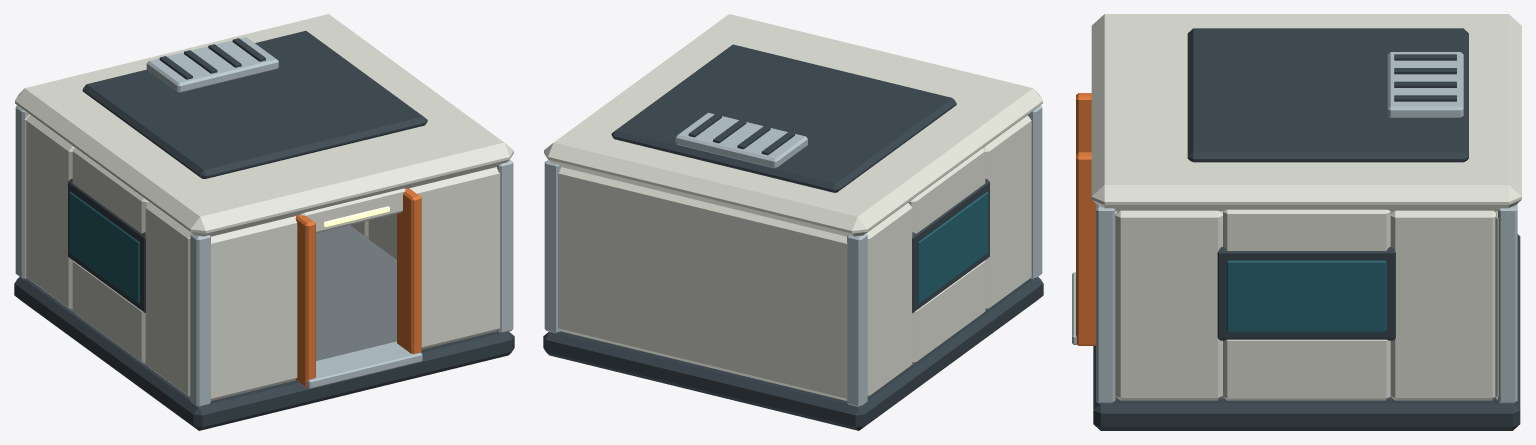
The model's file is habitat.glb.
3 renders of one model, left to right at view 1: azimuth 30°, elevation 25°; view 2: azimuth 150°, elevation 25°; view 3: azimuth 270°, elevation 25°, orthographic. The views are drawn at different scales.
Visible parts, largest first — view 1: Roof.001, habitat_ivory.001, habitat_dark.001, habitat_metal.001, habitat_floor.001, habitat_orange.001, habitat_glass.001; view 2: habitat_ivory.001, Roof.001, habitat_dark.001, habitat_metal.001, habitat_glass.001; view 3: Roof.001, habitat_ivory.001, habitat_dark.001, habitat_glass.001, habitat_metal.001, habitat_orange.001.
Boxes of the visible parts, x1,y1,x2,y2 form: Roof.001: [15, 14, 513, 236]; habitat_ivory.001: [24, 114, 499, 400]; habitat_dark.001: [14, 178, 514, 430]; habitat_metal.001: [15, 105, 513, 407]; habitat_floor.001: [316, 225, 396, 360]; habitat_orange.001: [295, 188, 421, 388]; habitat_glass.001: [69, 191, 139, 303]; habitat_ivory.001: [558, 115, 1031, 400]; Roof.001: [544, 14, 1042, 236]; habitat_dark.001: [543, 178, 1043, 430]; habitat_metal.001: [544, 105, 1042, 407]; habitat_glass.001: [918, 191, 988, 303]; Roof.001: [1091, 14, 1521, 211]; habitat_ivory.001: [1115, 209, 1498, 400]; habitat_dark.001: [1093, 234, 1520, 430]; habitat_glass.001: [1226, 260, 1386, 332]; habitat_metal.001: [1072, 204, 1517, 403]; habitat_orange.001: [1076, 93, 1095, 345].
Bounding box in the file's own units: 3.98 × 2.73 × 4.16.
